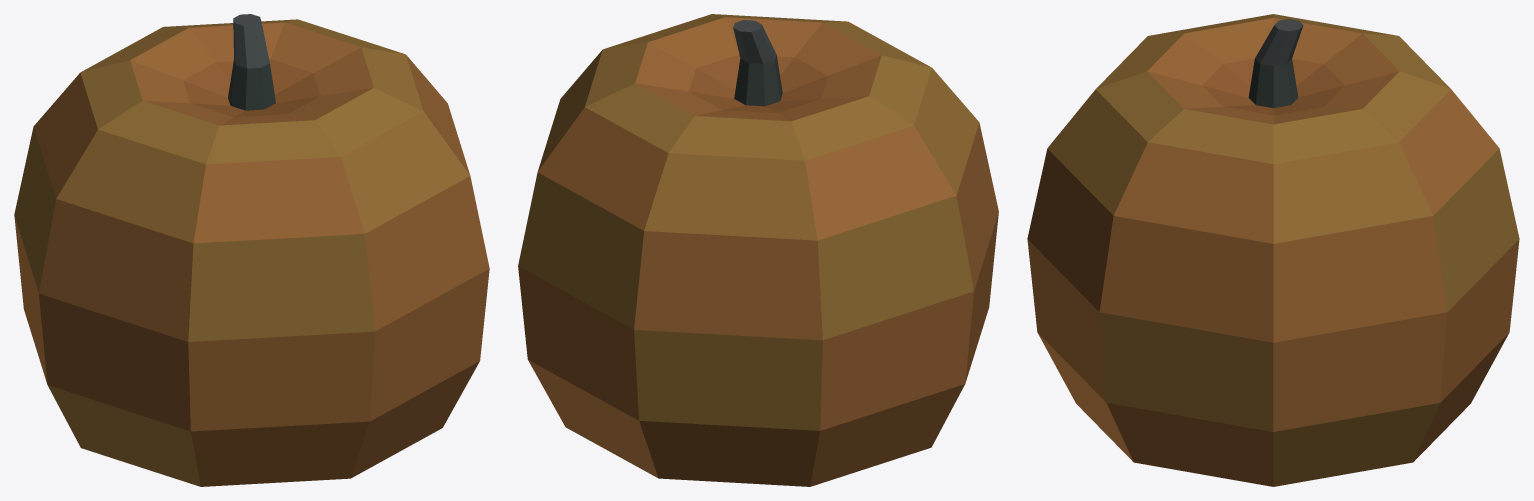
The model's file is pumpkin_green.fbx.
The picture shows the model from 3 angles, left to right: view 1: azimuth 30°, elevation 25°; view 2: azimuth 150°, elevation 25°; view 3: azimuth 270°, elevation 25°; orthographic projection.
Visible parts, largest first — view 1: pumpkin_green; view 2: pumpkin_green; view 3: pumpkin_green.
Boxes of the visible parts, <box> form: pumpkin_green: <box>14,14,489,486</box>; pumpkin_green: <box>518,14,998,486</box>; pumpkin_green: <box>1027,14,1519,486</box>.
Bounding box in the file's own units: 21.12 × 18.73 × 21.12.
